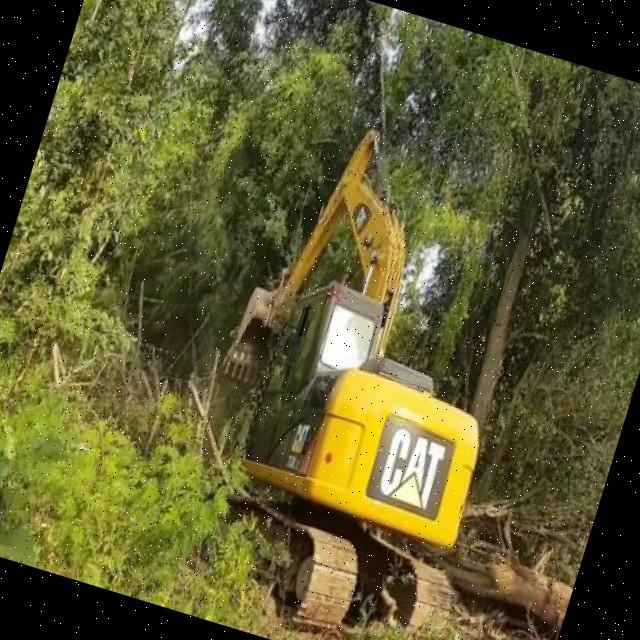Excavator: (153, 104, 580, 640)
